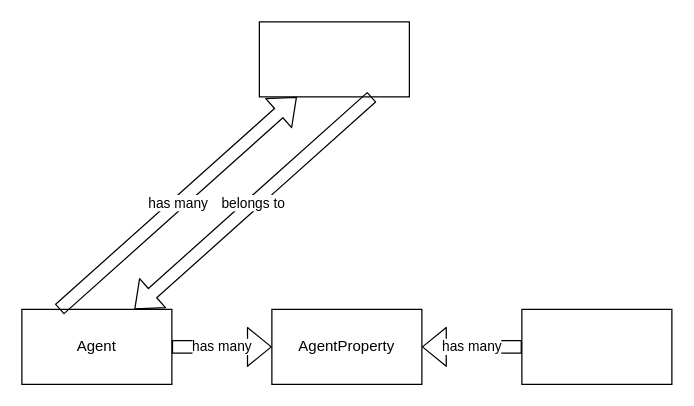
Some shapes in this 694 by 406 pixel diagram are drawn without their labels. The centre of each missing label's shape, as x and y in pixels:
Client: the point at 333,59
Property: the point at 596,346
